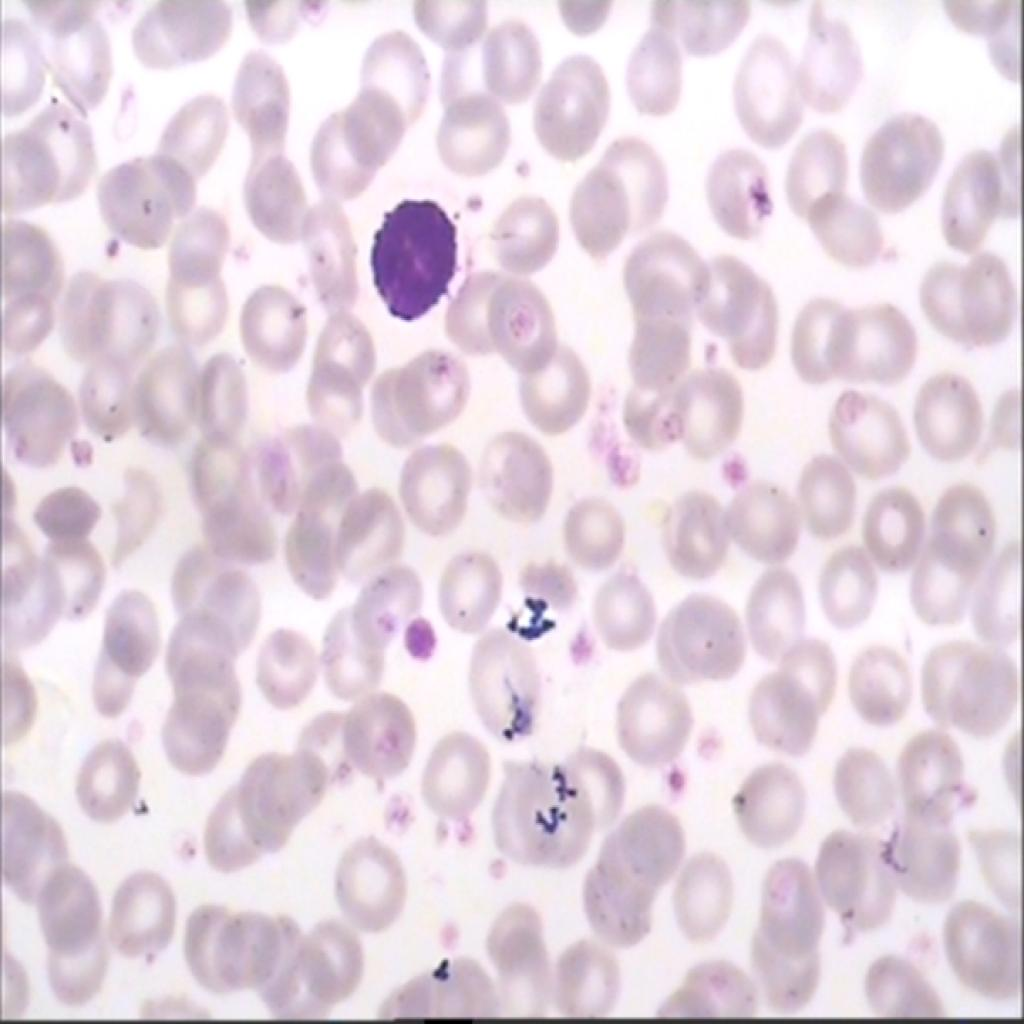Basofil: (362, 185, 466, 332)
Platelet: (400, 608, 454, 676), (558, 617, 598, 668), (603, 434, 637, 494), (451, 182, 495, 222), (445, 812, 485, 852), (91, 226, 122, 277), (710, 778, 748, 818), (501, 149, 536, 185), (657, 756, 684, 802), (387, 788, 424, 820), (718, 450, 741, 487), (698, 716, 716, 758)
